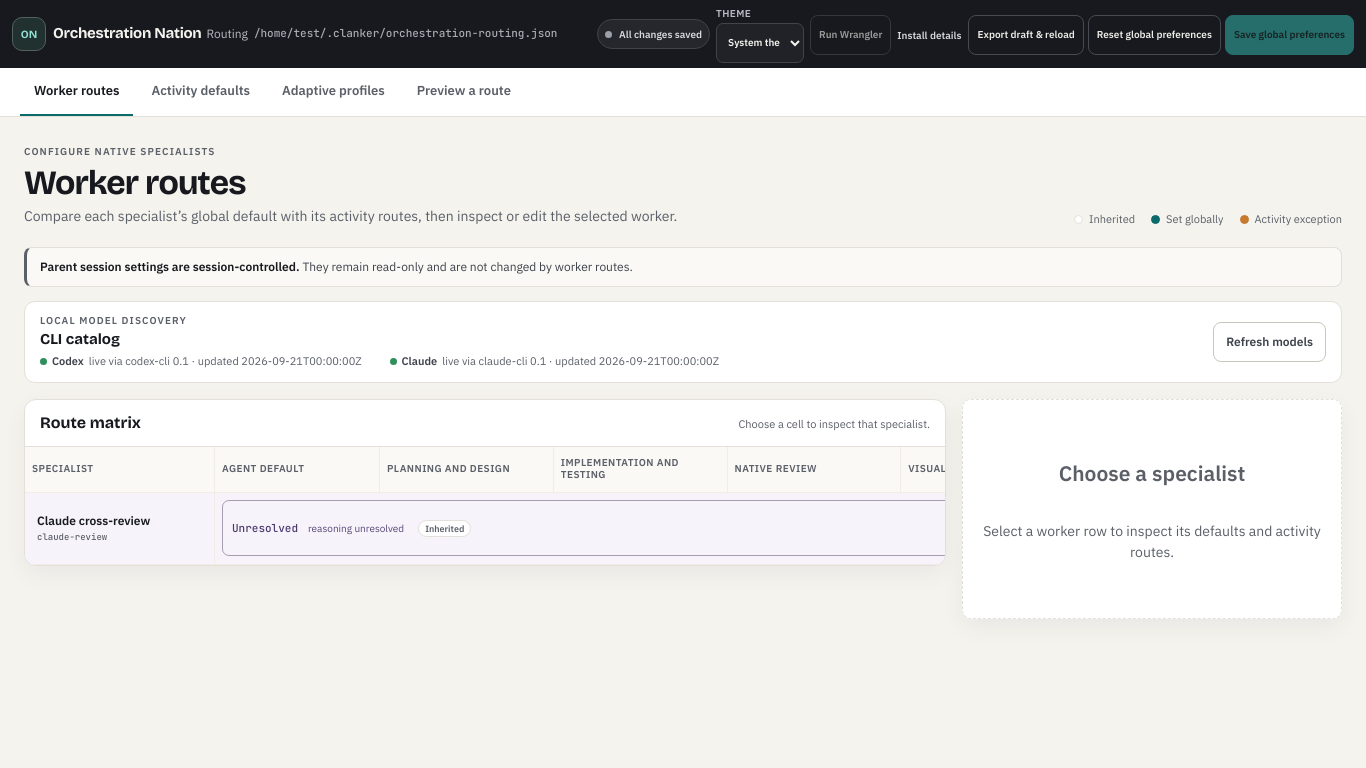
Scenario: routing editor › refreshes the global inherited route from the resolver instead of showing project-effective data
The image size is (1366, 768).
Click the tab "Activity defaults".
click(201, 92)  # box x1=138 y1=68 x2=264 y2=116
Wait 180 ms
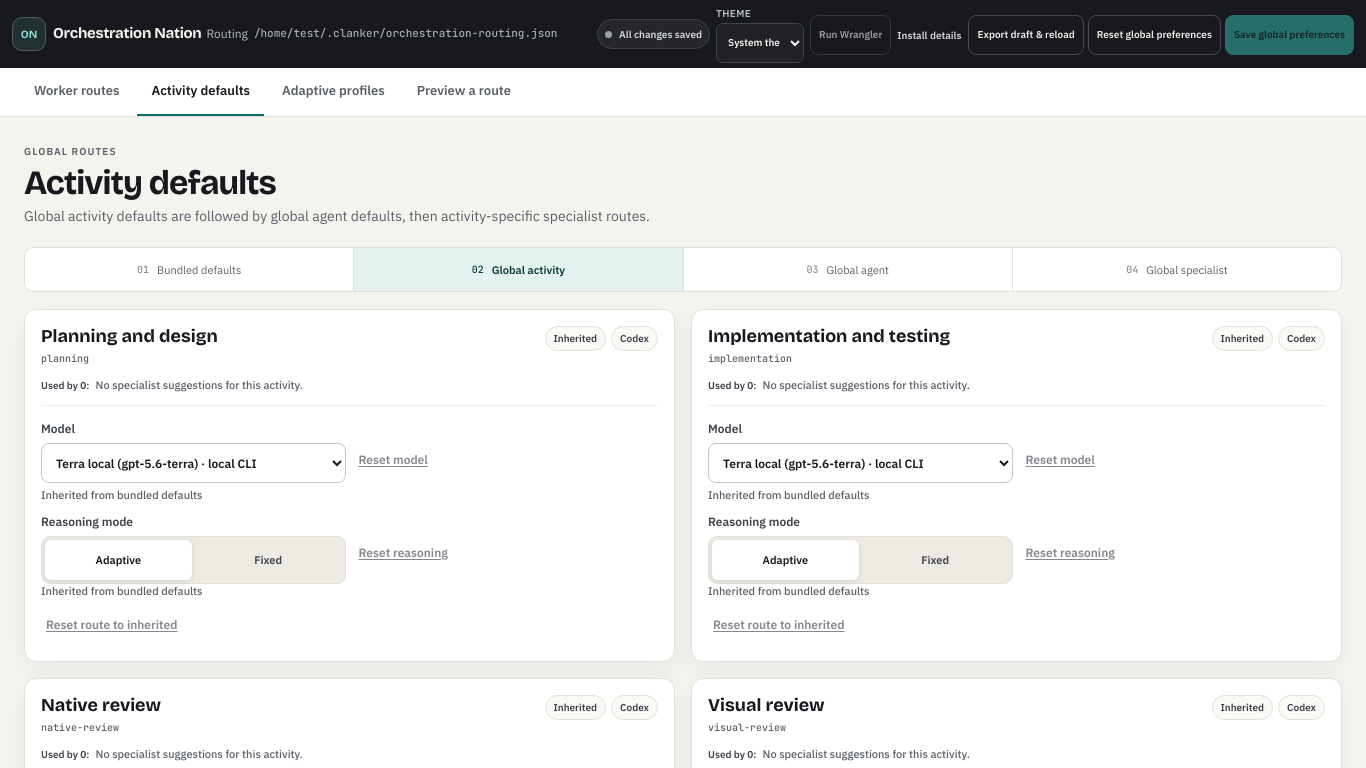
Expected: the dropdown labelled "Model Inherited from bundled defaults" below "Implementation and testing" shows "Terra local (gpt-5.6-terra) · local CLI", x1=708 y1=443 x2=1012 y2=483
